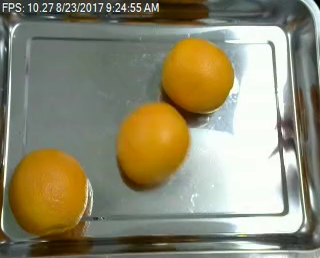Orange: (8, 149, 87, 236), (114, 101, 189, 185), (159, 38, 235, 112)
